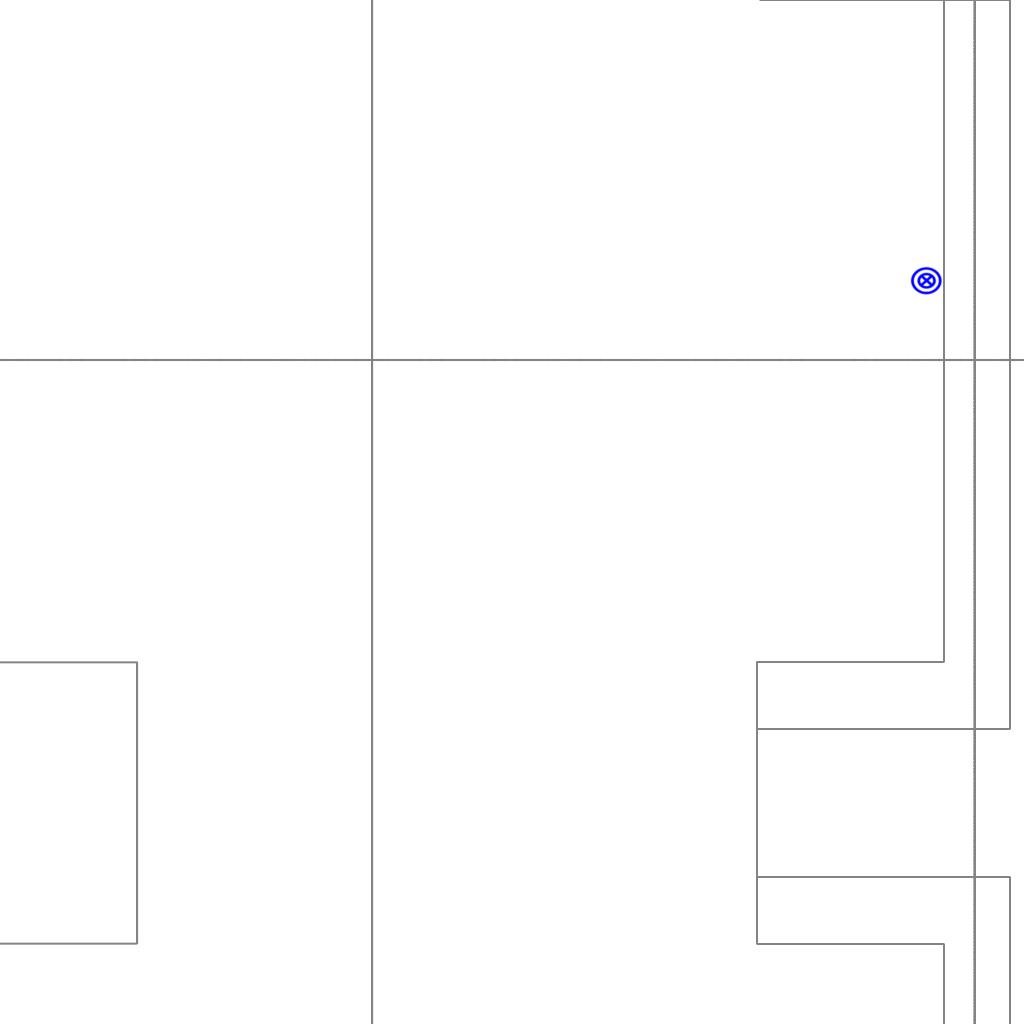Taster_beleuchtet: (910, 264, 943, 297)
